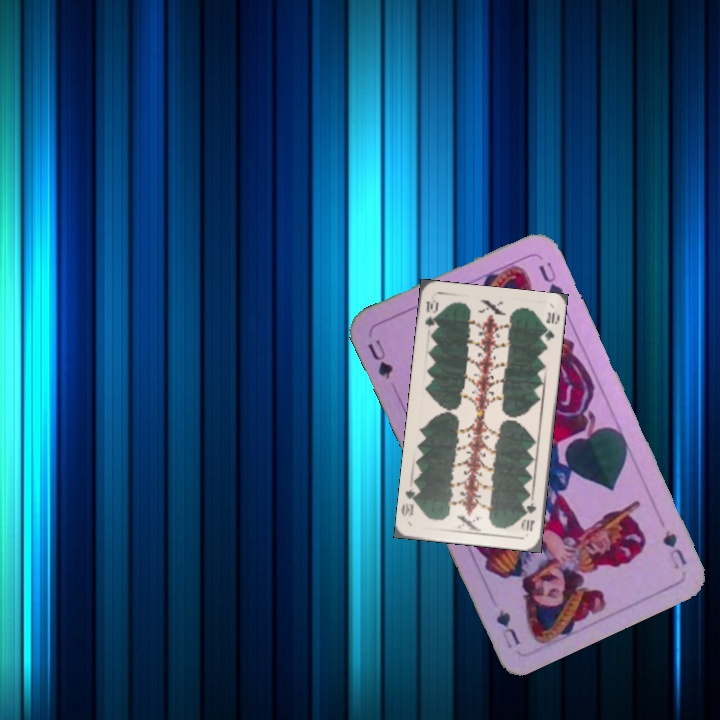G10: (519, 498, 539, 534), (421, 296, 441, 329)
GU: (363, 335, 396, 382), (658, 526, 689, 572)
